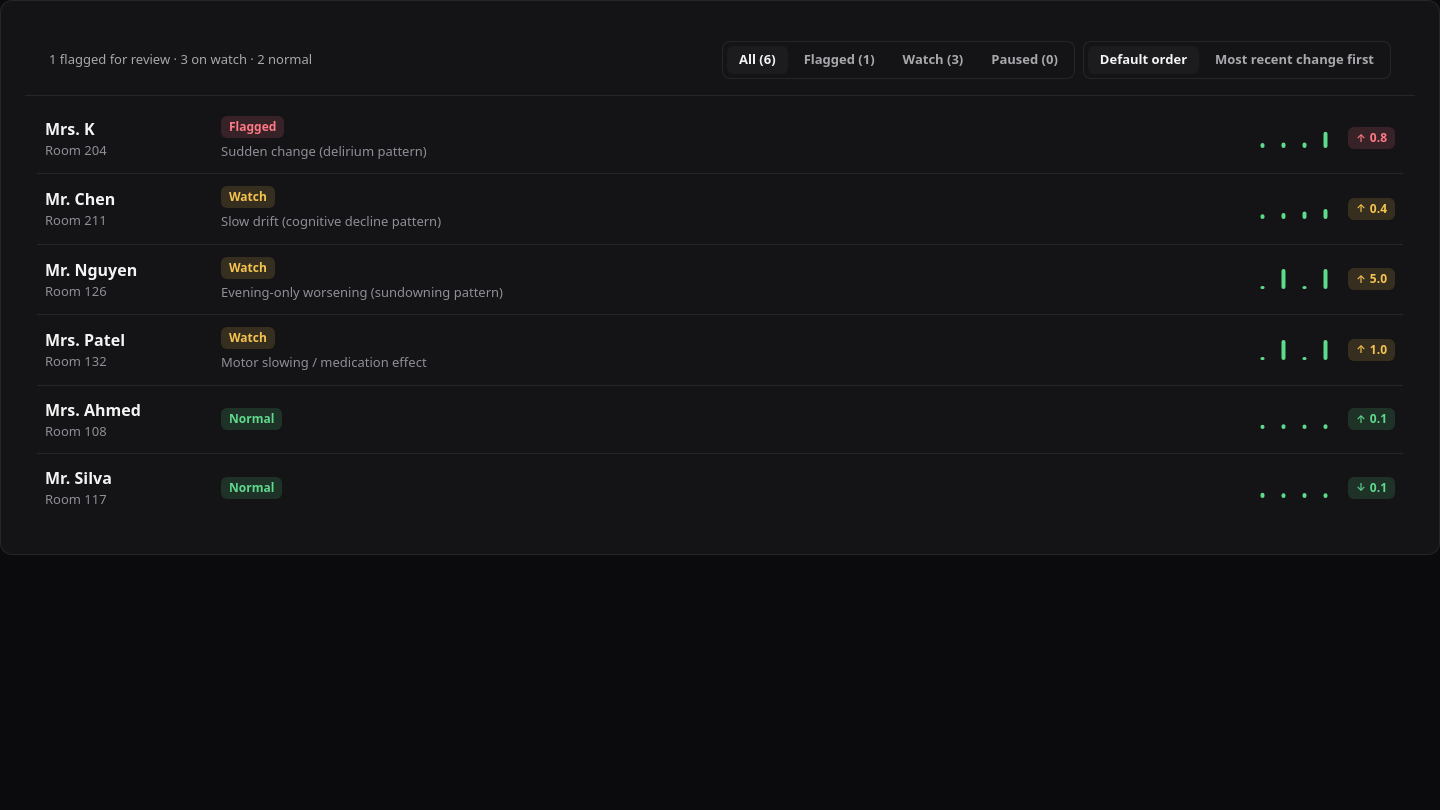
UnitOverview › returns to showing every resident when All is clicked again
Check: the number of list items is 6, box [37,104,1403,173]; [37,173,1403,244]; [37,244,1403,314]; [37,314,1403,384]; [37,384,1403,453]; [37,453,1403,522]
Step 1. Click the button "Flagged (1)" → coordinates (839, 60), box [792,46,887,74]
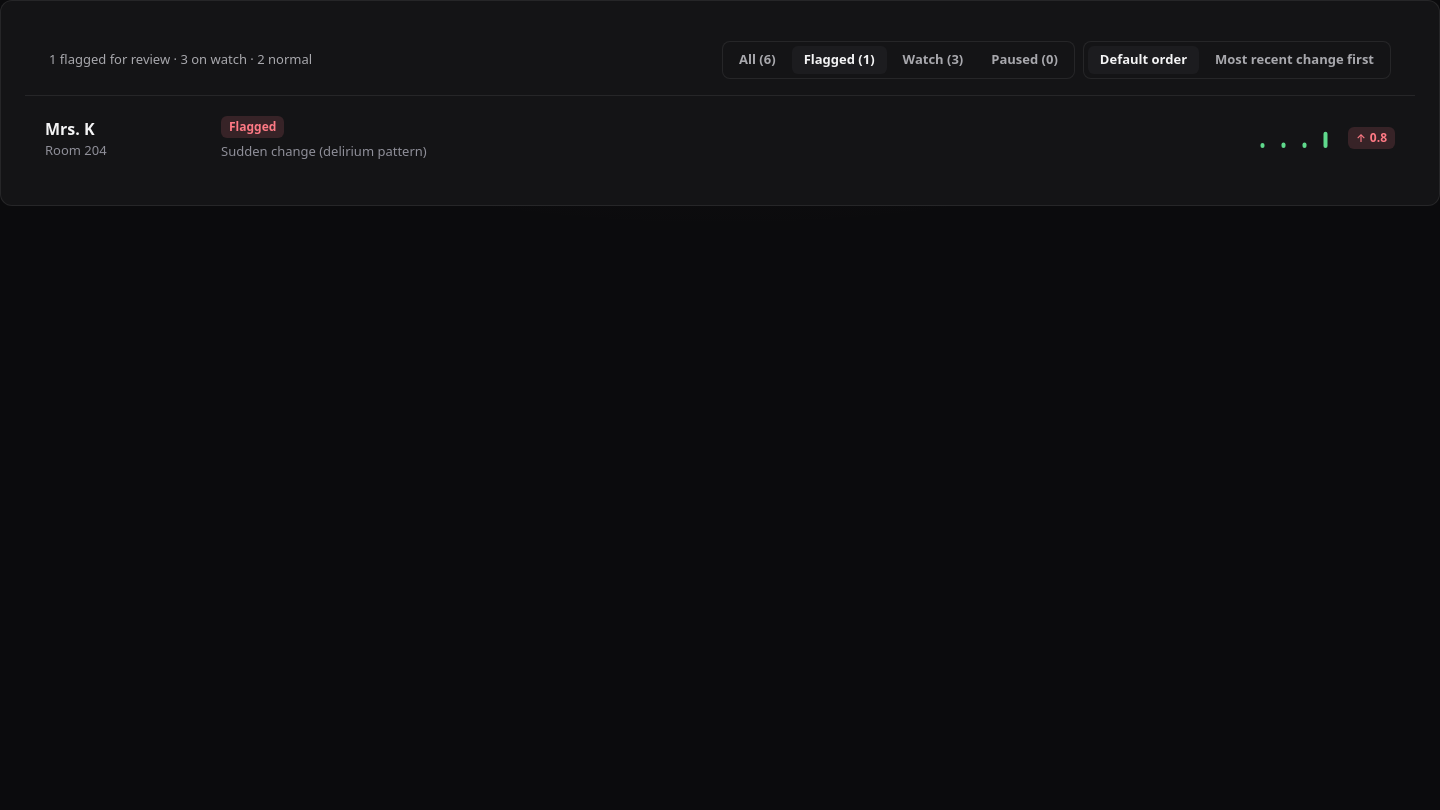
Step 2. Click the button "All (6)" → coordinates (757, 60), box [727,46,788,74]
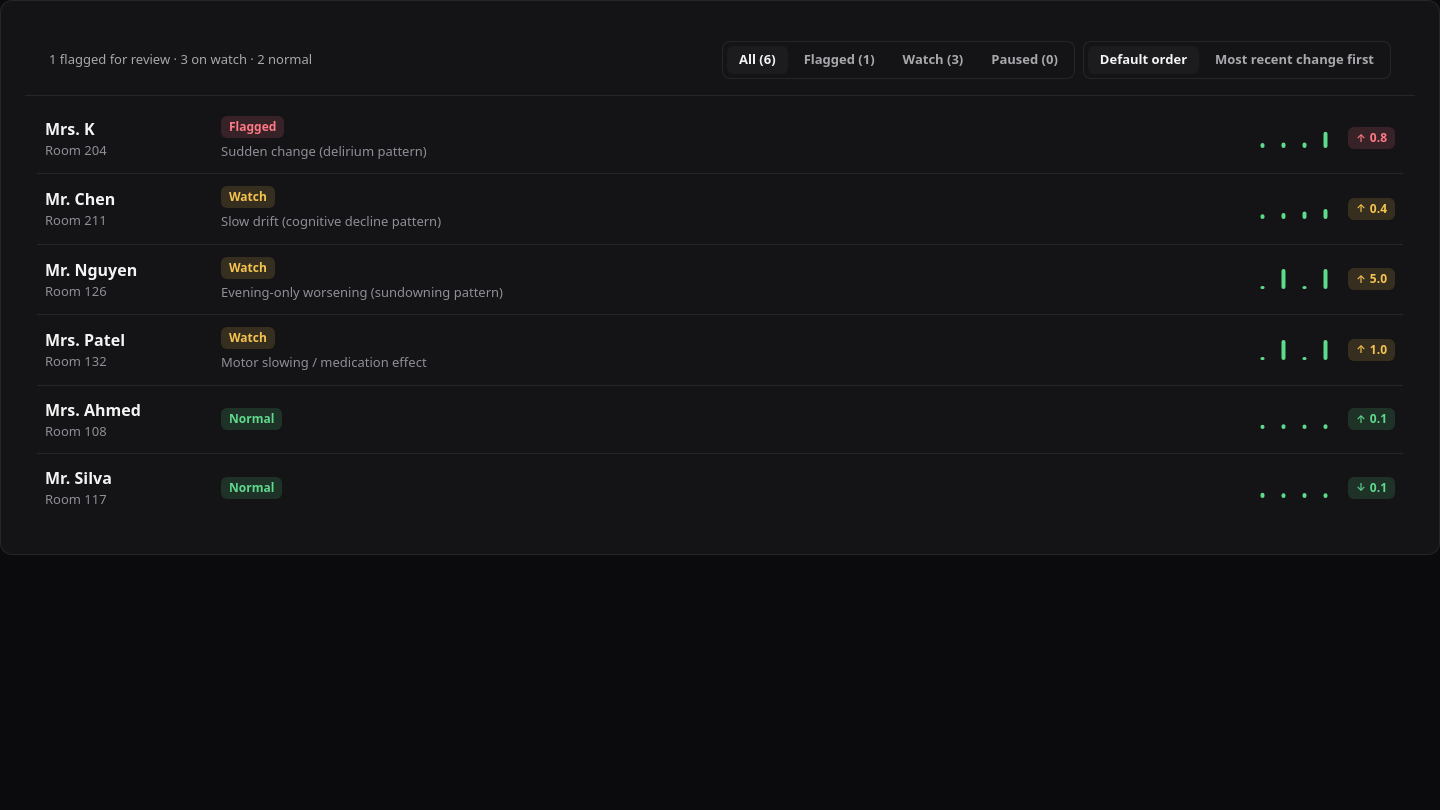
Check: the number of list items is 6, box [37,104,1403,173]; [37,173,1403,244]; [37,244,1403,314]; [37,314,1403,384]; [37,384,1403,453]; [37,453,1403,522]
